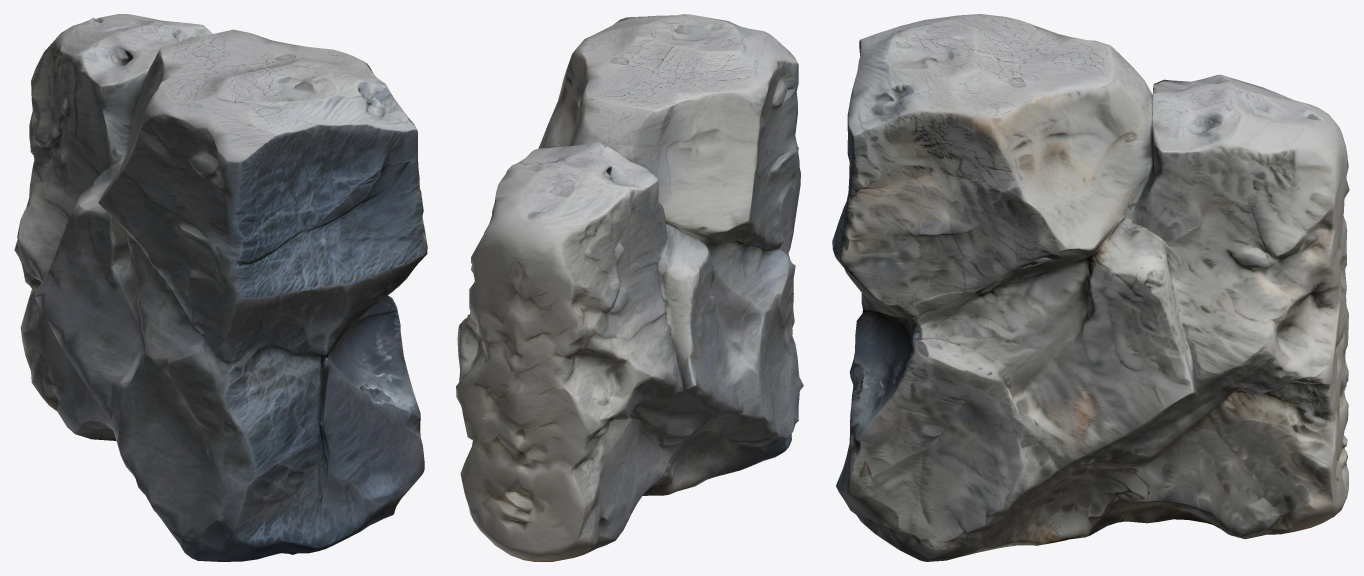
The model's file is rockWall.fbx.
The picture shows the model from 3 angles, left to right: view 1: azimuth 30°, elevation 25°; view 2: azimuth 150°, elevation 25°; view 3: azimuth 270°, elevation 25°; orthographic projection. The views are drawn at different scales.
Parts seen in each view (by area): view 1: tripo_node_7d0b397d; view 2: tripo_node_7d0b397d; view 3: tripo_node_7d0b397d.
Part boxes in pixels (x1,y1,x2,y2): tripo_node_7d0b397d: [14, 14, 427, 561]; tripo_node_7d0b397d: [456, 14, 803, 561]; tripo_node_7d0b397d: [832, 14, 1349, 561].
Size of the model in its own units: 0.5703 by 1 by 0.9911.
1 material, 1 textured.
